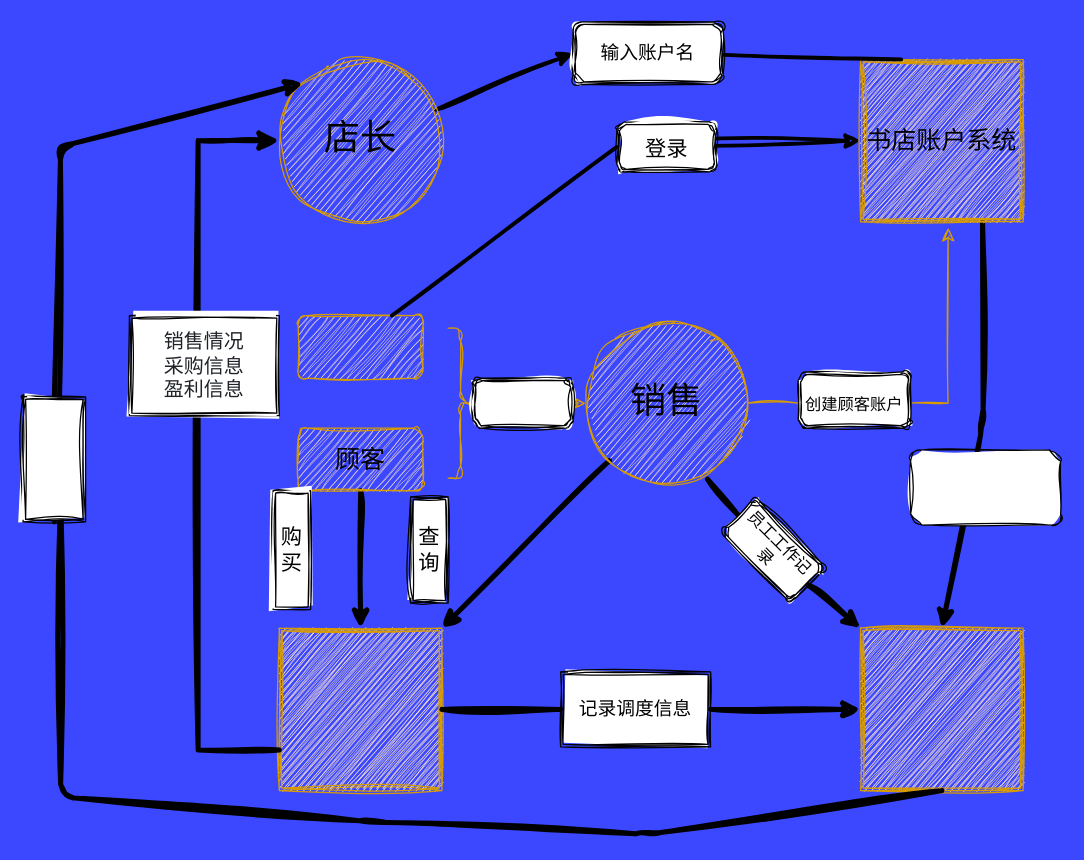
This 1084x860 diagram has some shape labels left out. Each missing label, with the centre of its shape:
书店信息系统: point (360, 709)
工作日志系统: point (941, 709)
整体调度信息: point (985, 487)
查询系统 工作日志: point (54, 459)
注册: point (522, 402)
游客: point (360, 346)
